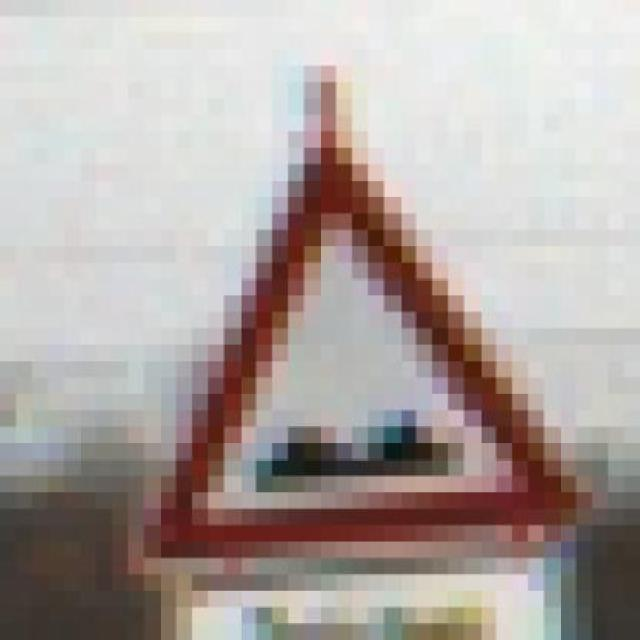Uneven Road: (128, 131, 608, 558)
